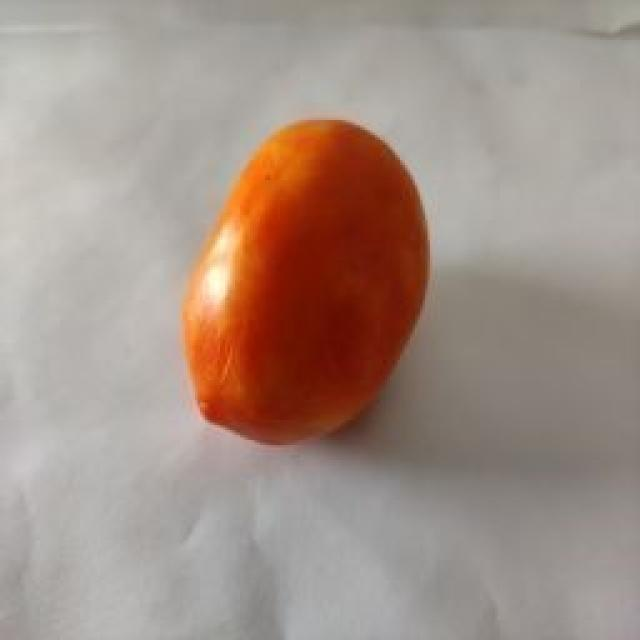Ripe: (178, 110, 436, 452)
